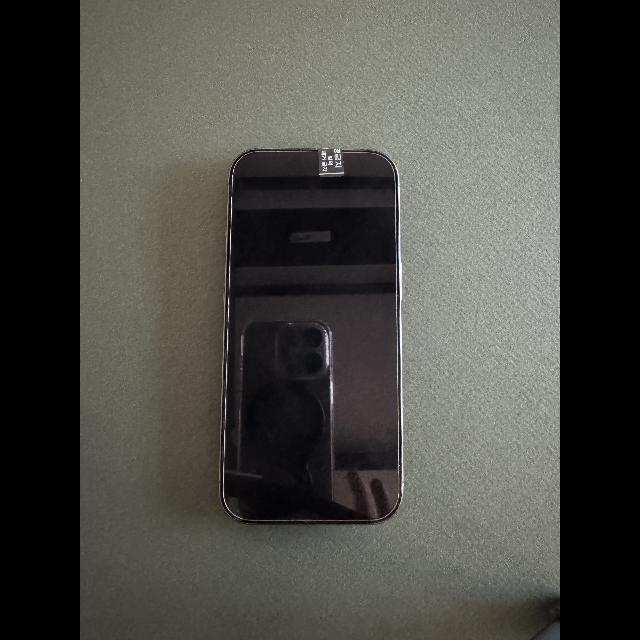phone: (220, 149, 403, 524)
sticker: (319, 149, 344, 178)
